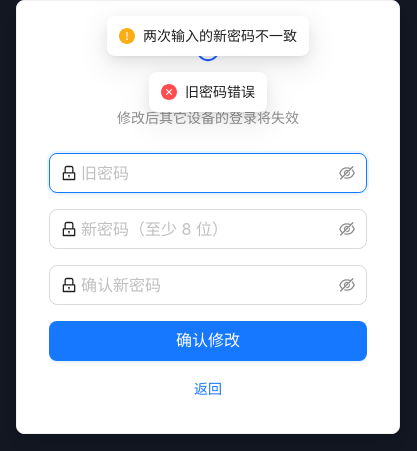
ChangePassword 页 › 新密码过短 → 前端拦截（与后端策略一致 ≥8 位）
Expected: the button with test id "change-pwd-submit" is shown, 49,321 -> 367,361
In the password field with test id "change-pwd-old": (208, 173) 81,161 -> 335,185, type "old-password"
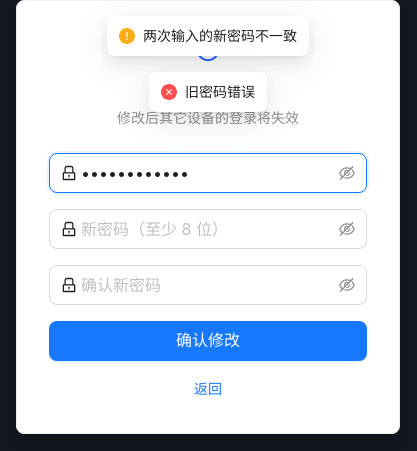
In the password field with test id "change-pwd-new": (208, 229) 81,217 -> 335,241, type "short"
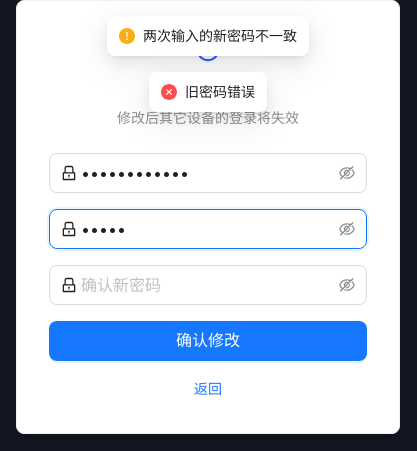
In the password field with test id "change-pwd-confirm": (208, 285) 81,273 -> 335,297, type "short"
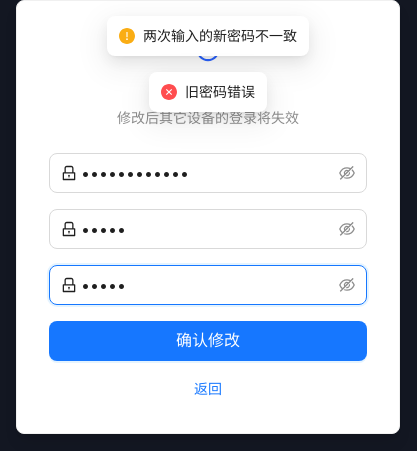
Click the button with test id "change-pwd-submit": (208, 341) 49,321 -> 367,361
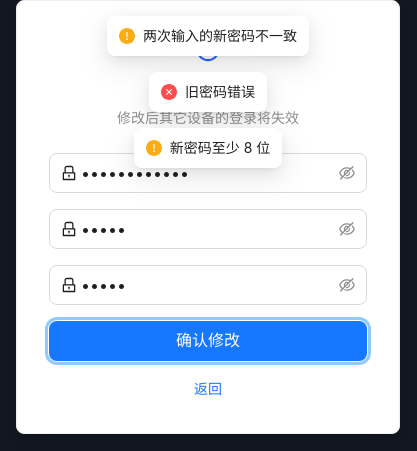
Now the text "新密码至少 8 位" is shown, box 170,137 -> 270,159
